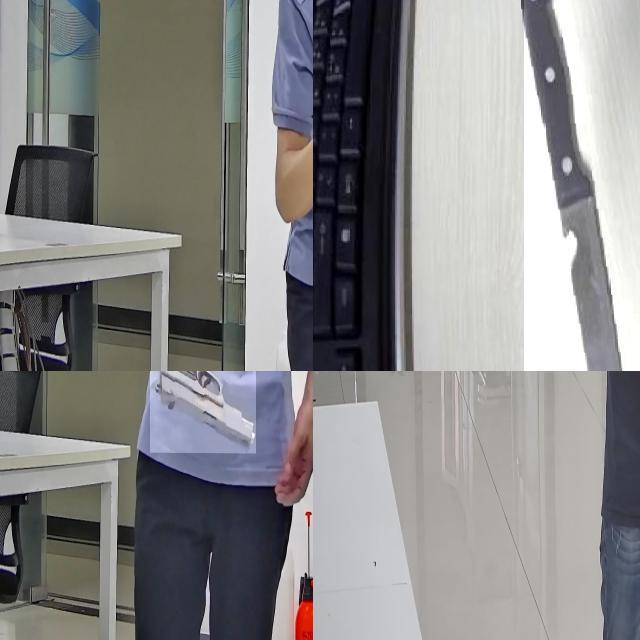-: (524, 0, 640, 371)
gun-knife-thesis - v11 Yolov5 augmented: (149, 371, 256, 452)
